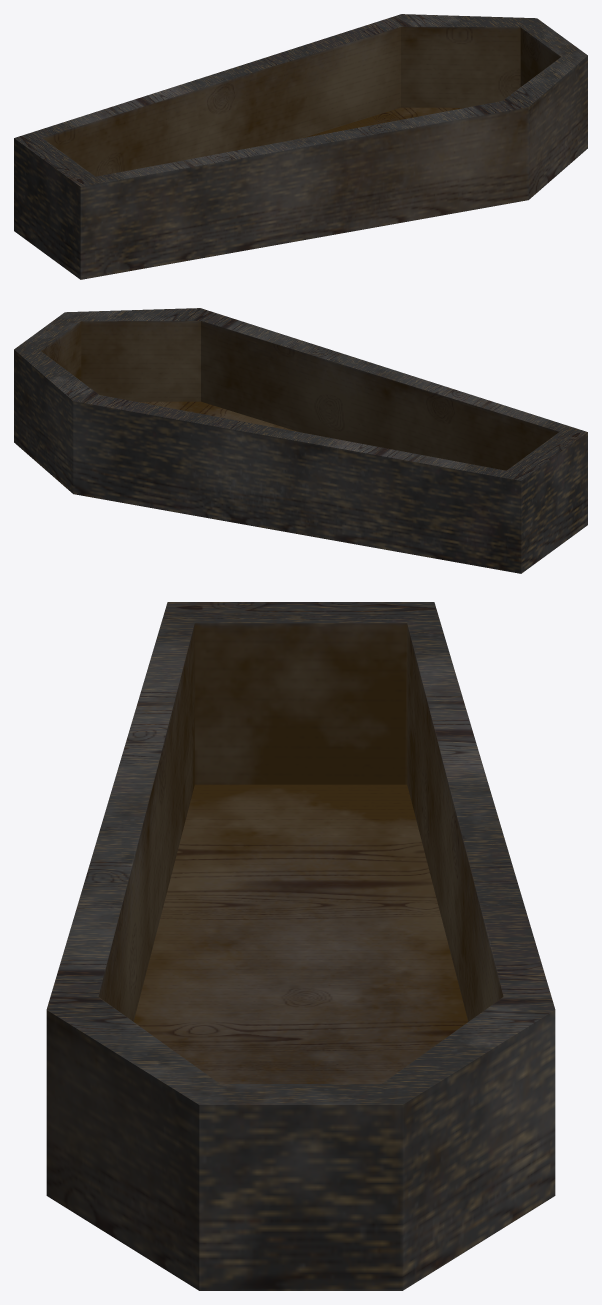
Rendered from coffin3.fbx.
3 views of the same model, one above another, from view 1: azimuth 30°, elevation 25°; view 2: azimuth 150°, elevation 25°; view 3: azimuth 270°, elevation 25° (orthographic). The views are drawn at different scales.
Visible parts, largest first — view 1: coffin_03; view 2: coffin_03; view 3: coffin_03.
Boxes of the visible parts, box(x1,y1,x2,y2) form: coffin_03: box(14, 14, 587, 279); coffin_03: box(14, 308, 587, 573); coffin_03: box(46, 602, 555, 1290).
Bounding box in the file's own units: 151 × 26.02 × 64.56.
1 material, 1 textured.
